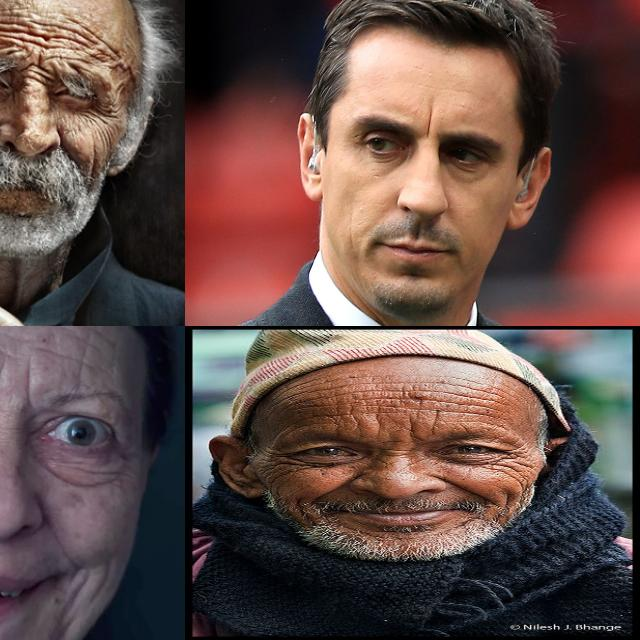chin: (342, 524, 382, 538)
crows_feet: (262, 448, 296, 472), (92, 93, 118, 121), (110, 446, 128, 484), (501, 448, 536, 467)
forehead: (66, 330, 100, 390), (390, 378, 436, 411), (447, 383, 495, 414), (64, 18, 102, 56), (330, 378, 376, 408), (315, 411, 374, 433), (28, 18, 58, 54), (284, 383, 322, 408), (107, 41, 133, 77), (0, 18, 23, 50)
frown_line: (371, 437, 409, 461), (23, 62, 53, 88), (22, 361, 36, 407), (403, 416, 423, 443), (424, 108, 436, 144), (0, 345, 5, 398)
gummy_smile: (38, 502, 76, 556), (439, 476, 487, 498), (311, 476, 353, 500)
masseter: (341, 212, 361, 252), (70, 568, 86, 618), (86, 142, 102, 184), (497, 489, 516, 514), (266, 476, 286, 496)
